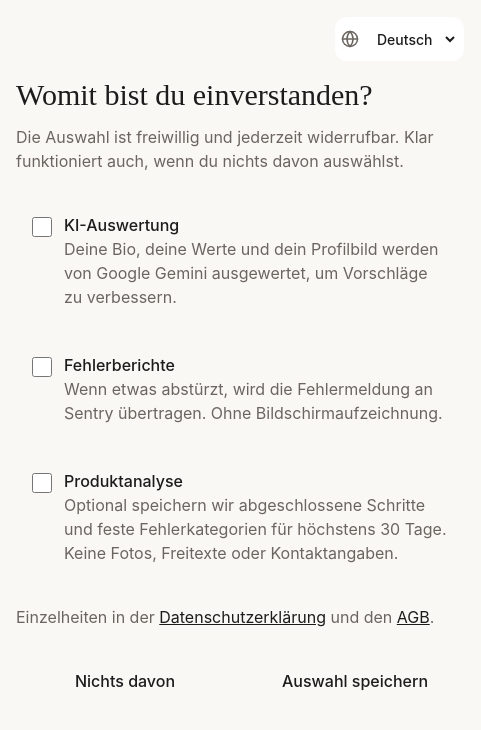
Test: consent UI persistence acknowledgement › requires a matching authoritative record after consent persistence
Click the button "Nichts davon" at (125, 681), box [16,653,234,709]
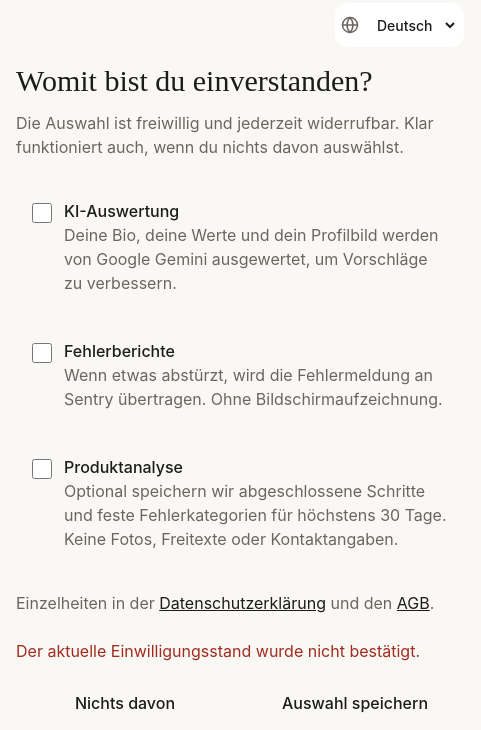
Expected: the message "Der aktuelle Einwilligungsstand wurde nicht bestätigt." is shown, [16,639,464,663]
